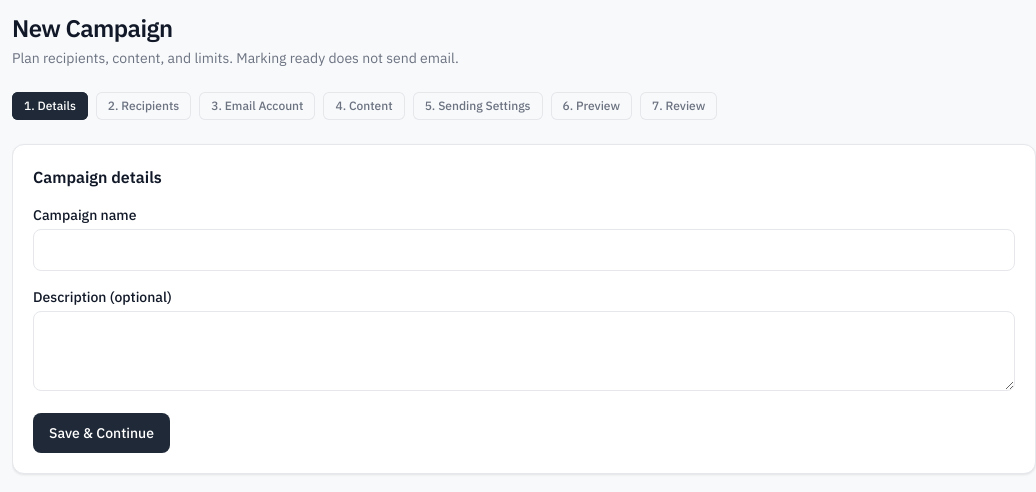
CampaignWizardPage › saves details and advances to recipients
The width and height of the screenshot is (1036, 492).
Step 1. Type "Test Campaign" into the field labelled "Campaign name" → [524, 250], box [33,229,1015,271]
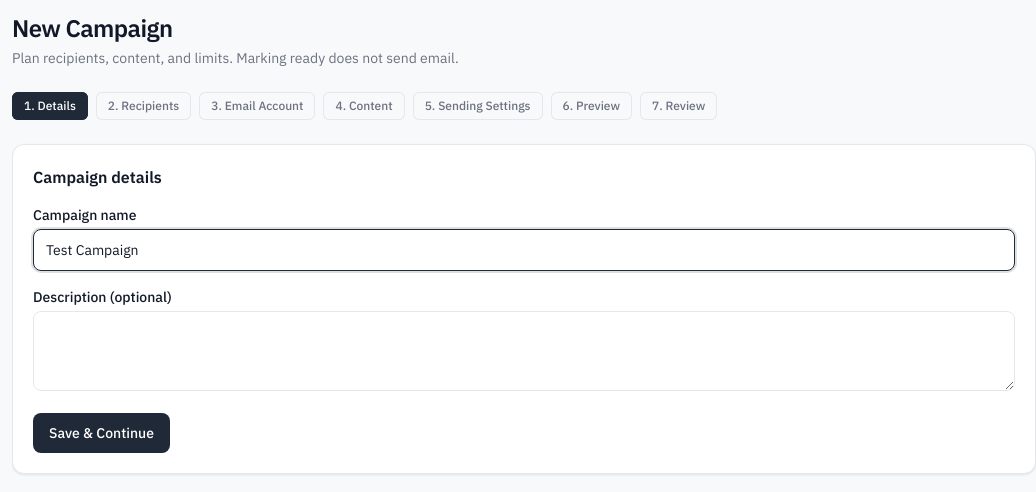
Step 2. Click the button "Save & Continue" → [102, 433], box [33,413,170,453]
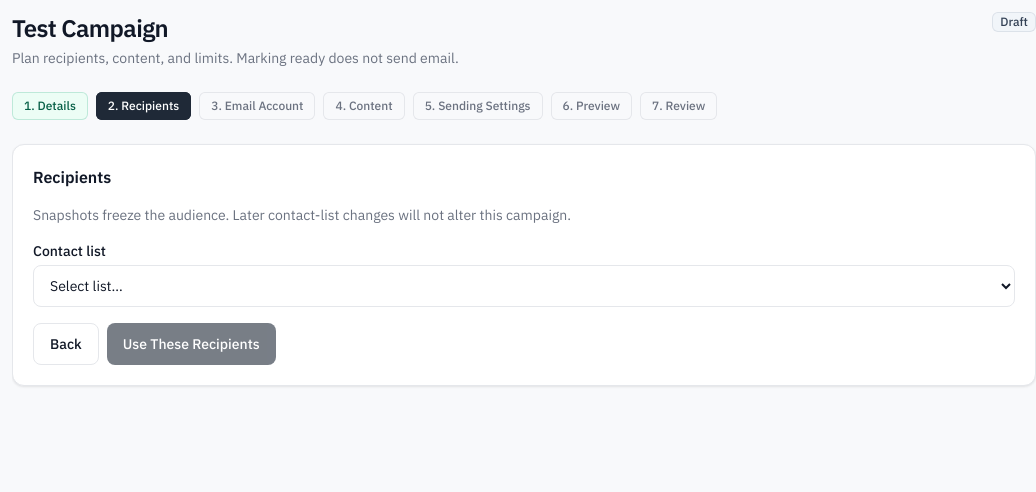
Check: the heading "Recipients" is shown, box [33,167,111,187]
